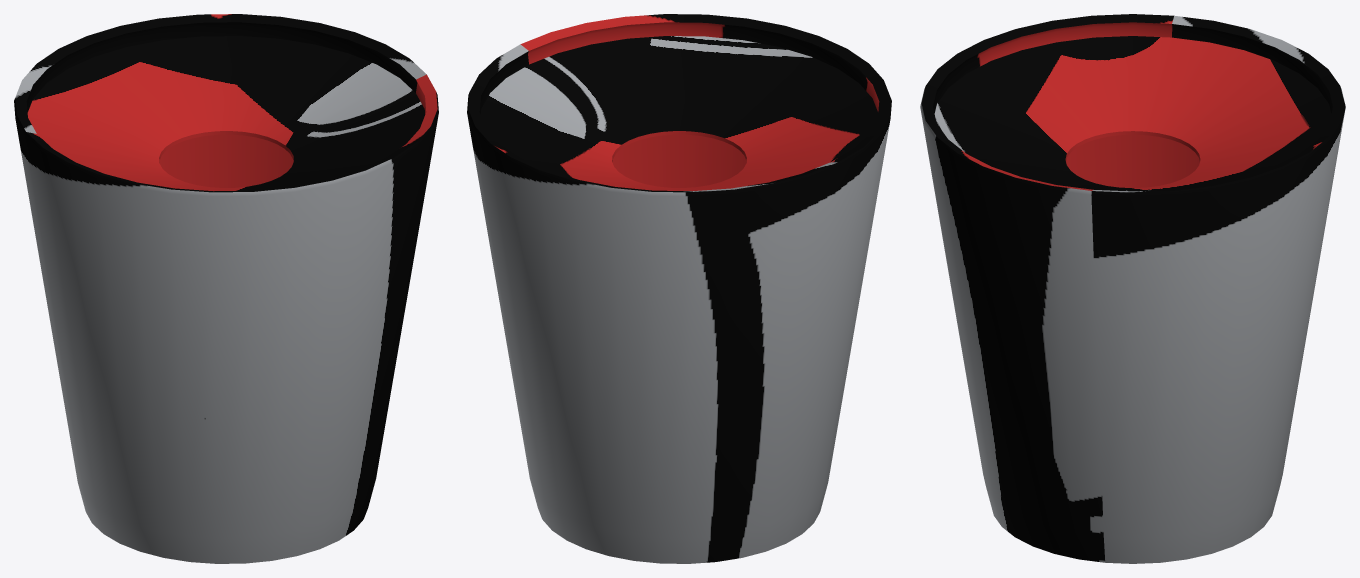
The model's file is bucket02.fbx.
3 views of the same model, side by side, from view 1: azimuth 30°, elevation 25°; view 2: azimuth 150°, elevation 25°; view 3: azimuth 270°, elevation 25° (orthographic).
Visible parts, largest first — view 1: bucket; view 2: bucket; view 3: bucket.
Part boxes in pixels (x1,y1,x2,y2): bucket: (14,14,438,563); bucket: (467,14,891,563); bucket: (920,14,1345,563).
Size of the model in its own units: 0.3357 by 0.3486 by 0.3357.
1 material, 1 textured.
